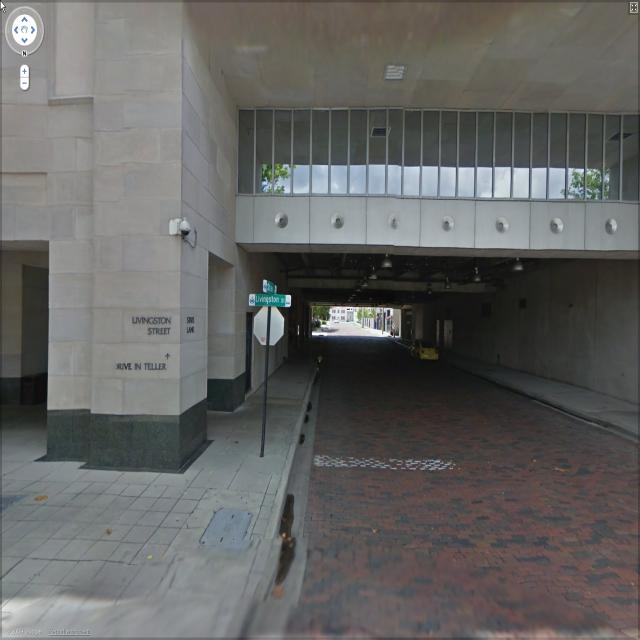b_1: (16, 1, 620, 440)
